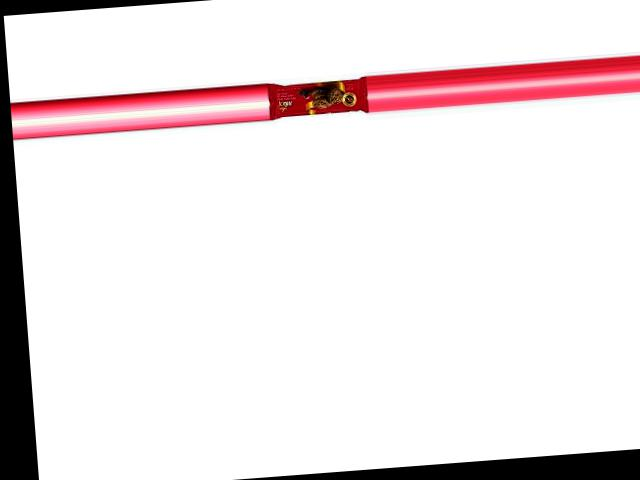chocolate: (266, 73, 366, 118)
